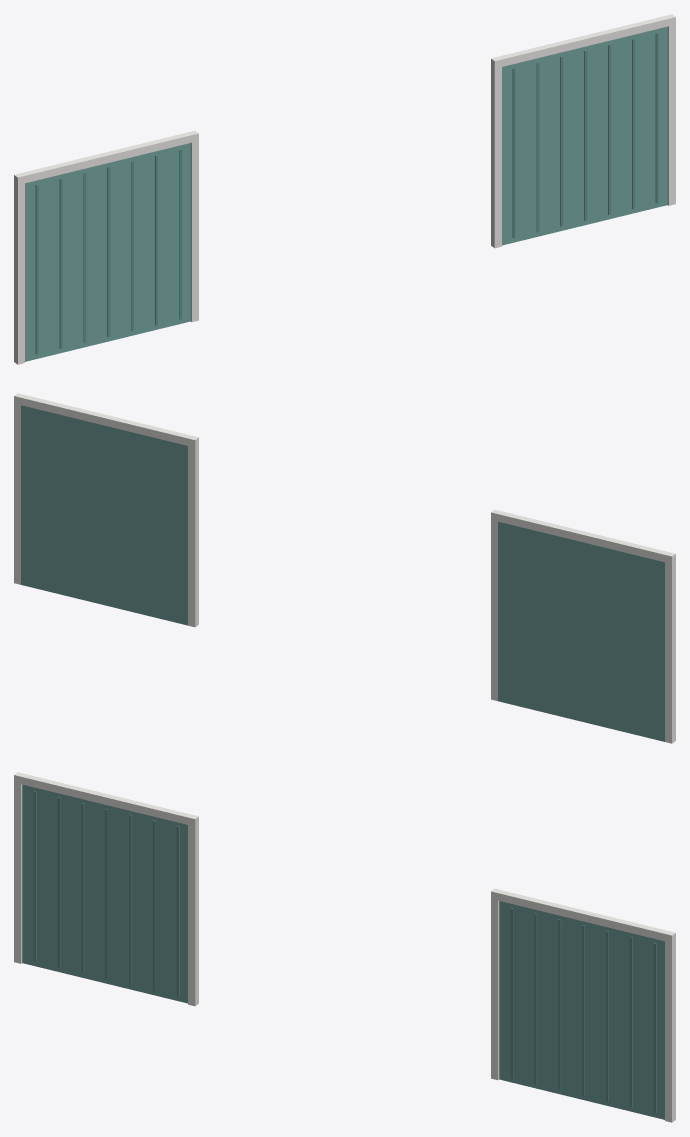
The model's file is harbour_doors.glb.
3 renders of one model, top to bottom at view 1: azimuth 30°, elevation 25°; view 2: azimuth 150°, elevation 25°; view 3: azimuth 330°, elevation 25°, orthographic.
Parts seen in each view (by area): view 1: harbour_doors; view 2: harbour_doors; view 3: harbour_doors.
Part boxes in pixels (box(x1,y1,x2,y2)): harbour_doors: box(14, 14, 675, 364); harbour_doors: box(14, 393, 675, 743); harbour_doors: box(14, 772, 675, 1122).
Size of the model in its own units: 13.8 by 3.75 by 0.14.
